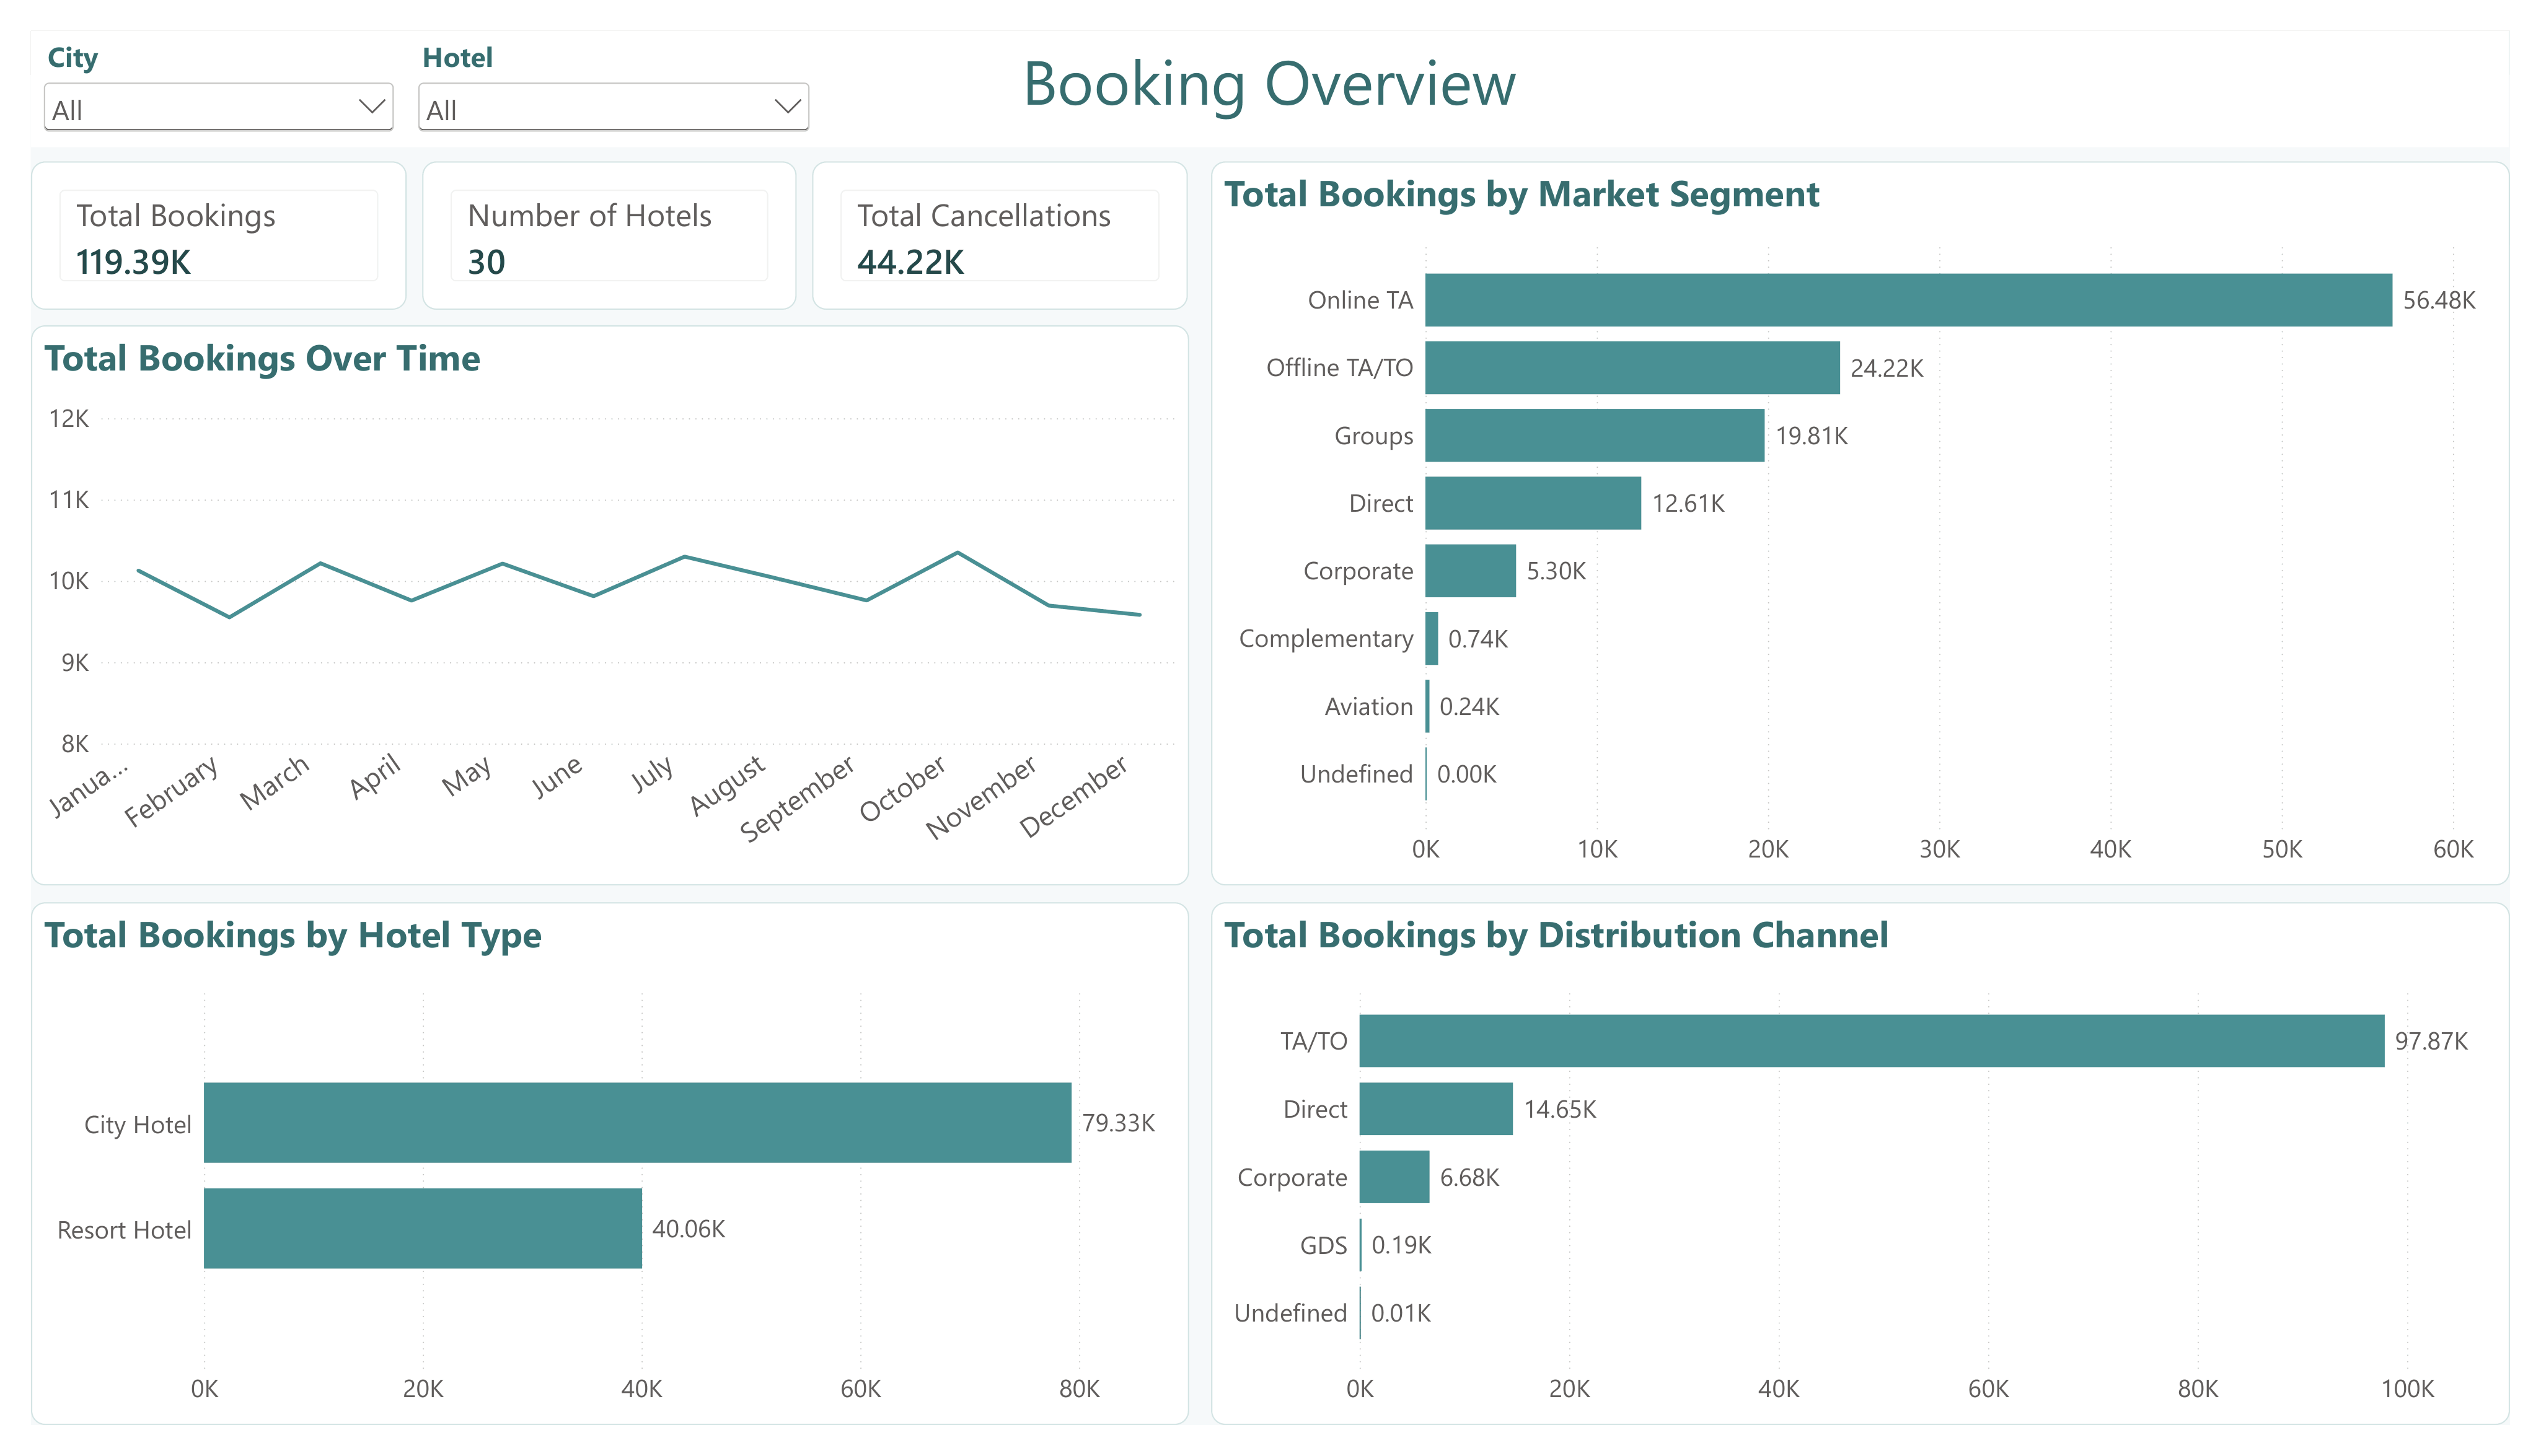

Layout of this report page (visuals, bound fields, positions):
{"tool":"powerbi","page":{"name":"Booking Overview","canvas":[1920,1080],"ordinal":0},"visuals":[{"type":"textbox","box":[0,0,1920,90.9],"z":0},{"type":"slicer","fields":{"Values":["hotel bookings 2024.hotel"]},"box":[290.7,0,322,80.5],"z":1000},{"type":"cardVisual","fields":{"Data":["_Mesures.Total Bookings"]},"box":[0,101.4,290.7,114.8],"z":2000},{"type":"cardVisual","fields":{"Data":["Sum(hotel bookings 2024.is_canceled)"]},"box":[605.2,101.4,290.7,114.8],"z":3000},{"type":"slicer","fields":{"Values":["hotel bookings 2024.city"]},"box":[0,0,290.7,80.5],"z":4000},{"type":"clusteredBarChart","title":"Total Bookings by Market Segment","fields":{"Category":["hotel bookings 2024.market_segment"],"Y":["_Mesures.Total Bookings"]},"box":[913.7,101.1,1006.3,560.6],"z":5000},{"type":"clusteredBarChart","title":"Total Bookings by Distribution Channel","fields":{"Category":["hotel bookings 2024.distribution_channel"],"Y":["_Mesures.Total Bookings"]},"box":[913.7,675.4,1006.3,404.6],"z":6000},{"type":"lineChart","title":"Total  Bookings Over Time","fields":{"Category":["DateTable.Date.Variation.Date Hierarchy.Quarter","DateTable.Date.Variation.Date Hierarchy.Month","DateTable.Date.Variation.Date Hierarchy.Day"],"Y":["_Mesures.Total Bookings"]},"box":[0,228,896.6,433.7],"z":7000},{"type":"clusteredBarChart","fields":{"Category":["hotel bookings 2024.Hotel Type"],"Y":["_Mesures.Total Bookings"]},"box":[0,675.4,896.6,404.6],"z":8000},{"type":"cardVisual","fields":{"Data":["Count(hotel bookings 2024.hotel)"]},"box":[302.6,101.4,290.7,114.8],"z":9000}]}

Visuals, with their boxes on the page's 1920x1080 design canvas (x1, y1, x2, y2). These are canvas units, not pixel positions in the 2541x1456 screenshot, which may show the page scaled, cropped or inside an application window:
textbox: crop(0, 0, 1920, 91)
slicer - hotel bookings 2024.hotel: crop(291, 0, 613, 80)
cardVisual - _Mesures.Total Bookings: crop(0, 101, 291, 216)
cardVisual - Sum(hotel bookings 2024.is_canceled): crop(605, 101, 896, 216)
slicer - hotel bookings 2024.city: crop(0, 0, 291, 80)
"Total Bookings by Market Segment" clusteredBarChart: crop(914, 101, 1920, 662)
"Total Bookings by Distribution Channel" clusteredBarChart: crop(914, 675, 1920, 1080)
"Total  Bookings Over Time" lineChart: crop(0, 228, 897, 662)
clusteredBarChart - hotel bookings 2024.Hotel Type x _Mesures.Total Bookings: crop(0, 675, 897, 1080)
cardVisual - Count(hotel bookings 2024.hotel): crop(303, 101, 593, 216)
